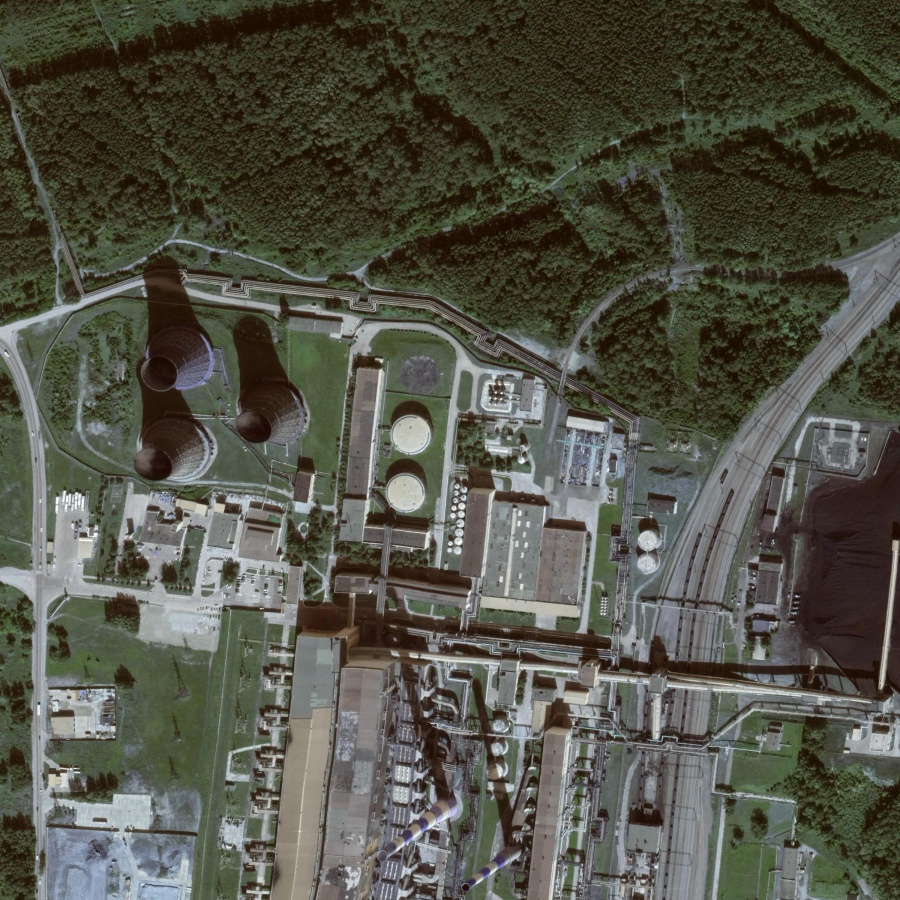PowerPlant: (121, 244, 453, 558)
